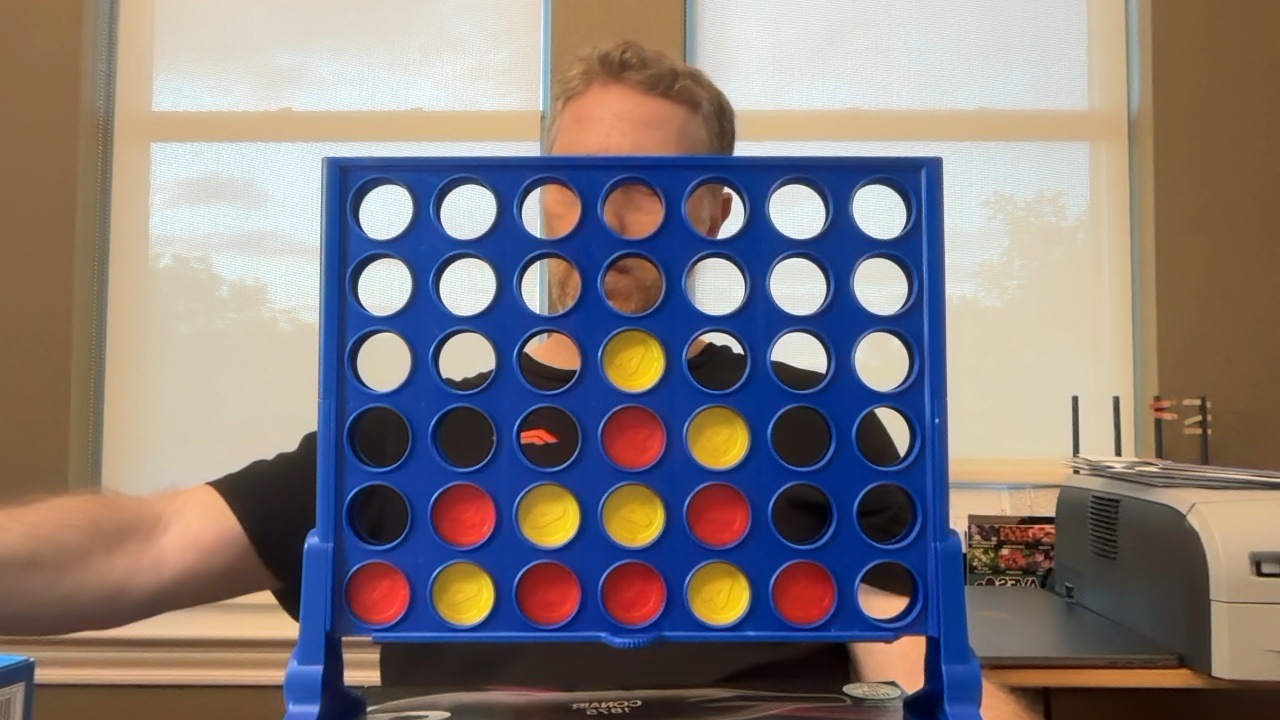red piece: (516, 561, 581, 626), (772, 561, 836, 627), (601, 561, 665, 626), (686, 483, 750, 548), (431, 483, 496, 547), (346, 561, 409, 626), (601, 406, 665, 469)
yellow piece: (602, 483, 665, 548), (687, 561, 750, 626), (517, 483, 580, 548), (431, 562, 494, 626), (602, 329, 664, 392), (687, 406, 749, 469)
